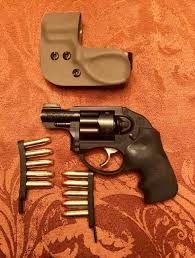gun: (39, 99, 185, 204)
